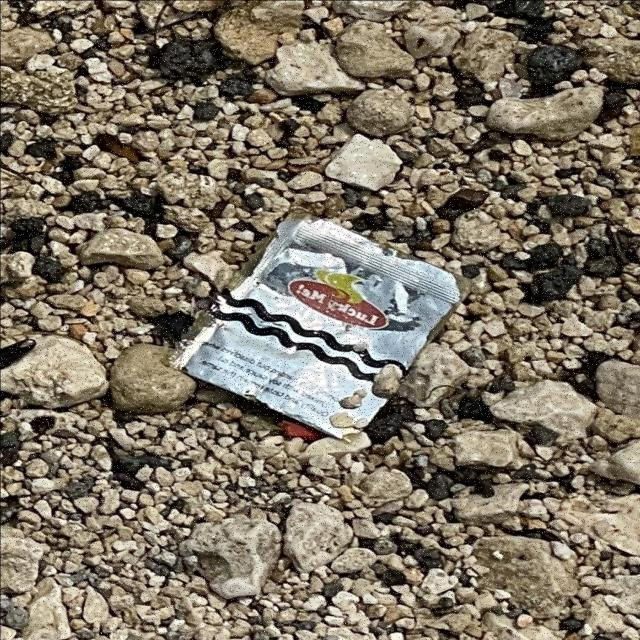plastic_waste: (172, 208, 480, 444)
